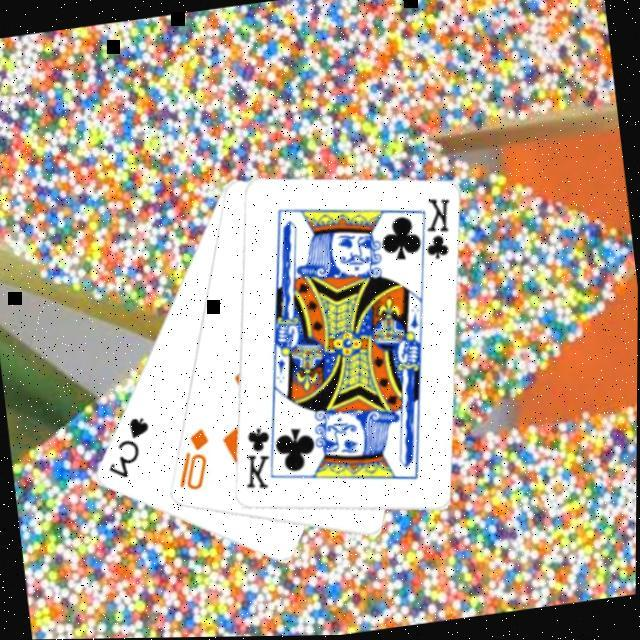10D: (168, 423, 216, 494)
3S: (98, 411, 157, 482)
KC: (408, 192, 458, 270), (235, 416, 285, 493)
